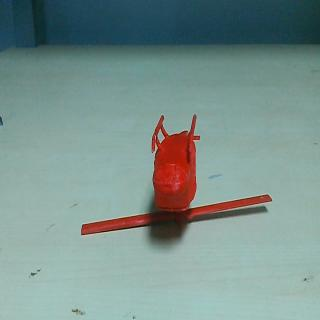Helicopter: (80, 113, 274, 242)
